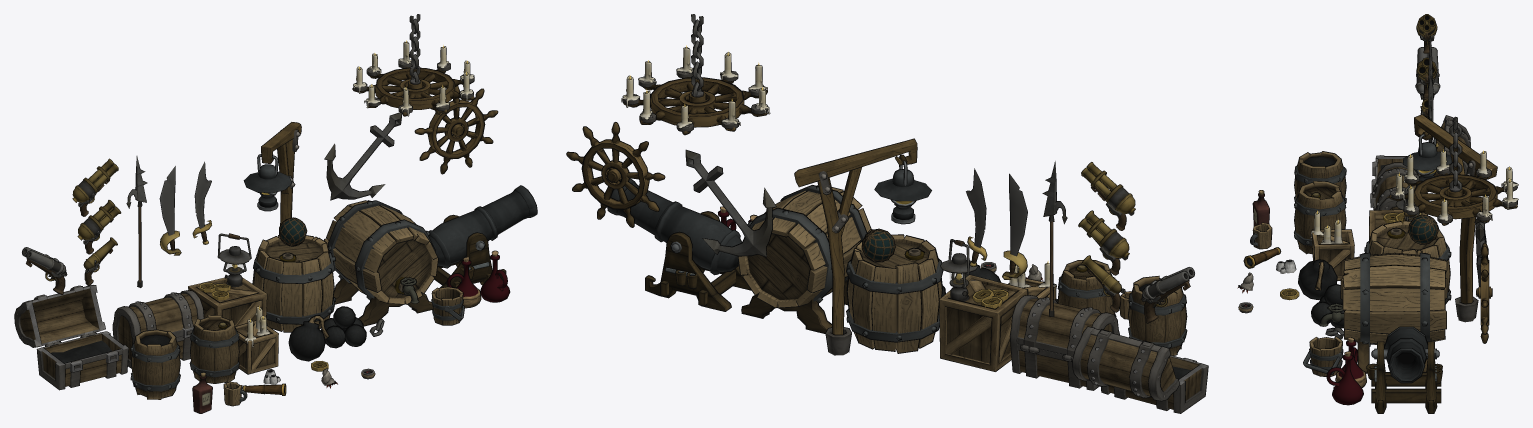
The model's file is Pirate_Props.glb.
The picture shows the model from 3 angles, left to right: view 1: azimuth 30°, elevation 25°; view 2: azimuth 150°, elevation 25°; view 3: azimuth 270°, elevation 25°; orthographic projection. The views are drawn at different scales.
Parts seen in each view (by area): view 1: Cylinder.083_0, Cube.030_0, Cylinder.085_0, Cylinder.110_0, Cube.023_0, Cylinder.101_0, Cylinder.084_0, Cylinder.076_0, Cylinder.090_1, Cube.027_0, Cube.031_0, Cube.025_0 (+26 smaller); view 2: Cylinder.083_0, Cylinder.085_0, Cylinder.110_0, Cube.030_0, Cube.023_0, Cube.027_0, Cube.025_0, Cylinder.101_0, Cylinder.090_1, Cylinder.084_0, Cube.031_0, Cylinder.076_0 (+21 smaller); view 3: Cylinder.083_0, Cylinder.110_0, Cylinder.101_0, Cube.025_0, Cylinder.076_0, Cylinder.085_0, Cylinder.084_0, Cylinder.095_0, Cylinder.083_1, Cylinder.110_1, Cube.024_0, Cylinder.080_0 (+28 smaller).
Part boxes in pixels (left/top/right/bottom): Cylinder.083_0: left=324, top=201, right=437, bottom=325; Cube.030_0: left=14, top=285, right=128, bottom=389; Cylinder.085_0: left=253, top=236, right=335, bottom=331; Cylinder.110_0: left=429, top=186, right=536, bottom=287; Cube.023_0: left=113, top=290, right=203, bottom=367; Cylinder.101_0: left=353, top=61, right=474, bottom=116; Cylinder.084_0: left=131, top=330, right=180, bottom=399; Cylinder.076_0: left=190, top=315, right=239, bottom=383; Cylinder.090_1: left=415, top=86, right=497, bottom=173; Cube.027_0: left=188, top=278, right=266, bottom=326; Cube.031_0: left=325, top=112, right=401, bottom=199; Cube.025_0: left=261, top=122, right=301, bottom=224; Cylinder.083_0: left=738, top=185, right=871, bottom=333; Cylinder.085_0: left=846, top=235, right=942, bottom=352; Cylinder.110_0: left=608, top=179, right=750, bottom=311; Cube.030_0: left=1073, top=327, right=1207, bottom=413; Cube.023_0: left=1010, top=295, right=1119, bottom=390; Cube.027_0: left=939, top=275, right=1027, bottom=371; Cube.025_0: left=795, top=139, right=916, bottom=355; Cylinder.101_0: left=623, top=71, right=767, bottom=134; Cylinder.090_1: left=567, top=122, right=664, bottom=227; Cylinder.084_0: left=1129, top=276, right=1186, bottom=355; Cube.031_0: left=686, top=150, right=775, bottom=256; Cylinder.076_0: left=1058, top=260, right=1115, bottom=316; Cylinder.083_0: left=1320, top=253, right=1446, bottom=372; Cylinder.110_0: left=1366, top=327, right=1442, bottom=413; Cylinder.101_0: left=1389, top=167, right=1517, bottom=225; Cube.025_0: left=1414, top=114, right=1497, bottom=322; Cylinder.076_0: left=1294, top=181, right=1345, bottom=253; Cylinder.085_0: left=1365, top=221, right=1450, bottom=302; Cylinder.084_0: left=1294, top=151, right=1345, bottom=202; Cylinder.095_0: left=1395, top=151, right=1518, bottom=220; Cylinder.083_1: left=1319, top=252, right=1447, bottom=373; Cylinder.110_1: left=1366, top=326, right=1442, bottom=413; Cube.024_0: left=1312, top=230, right=1354, bottom=280; Cylinder.080_0: left=1303, top=337, right=1342, bottom=376.
Size of the model in its own units: 21.19 by 10.29 by 9.78.
14 materials, 8 textured.
